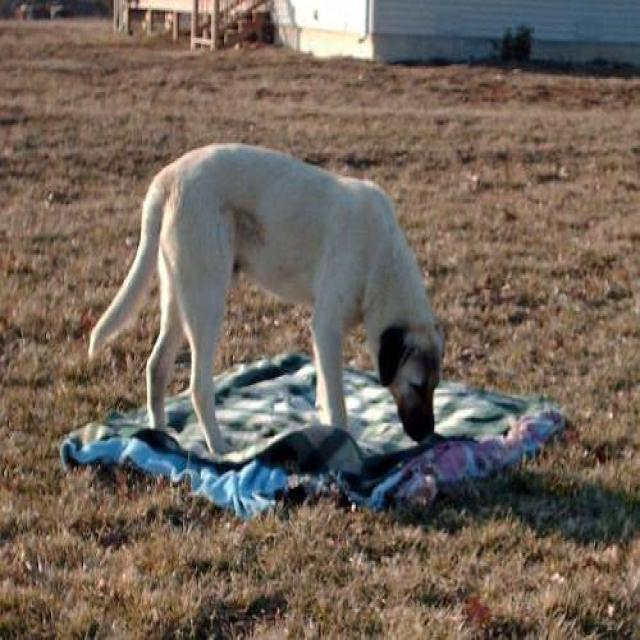dog: (87, 140, 445, 454)
